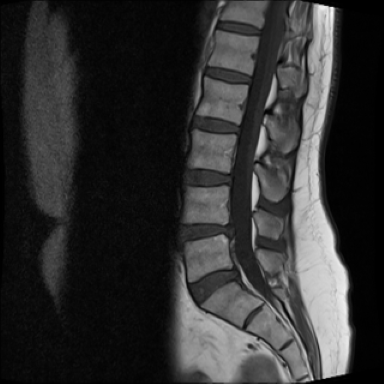Lumbar Disc Bulge (LDB): (182, 258, 249, 312), (175, 216, 244, 248)
Normal IVD: (185, 110, 245, 140), (198, 59, 256, 90), (175, 164, 237, 190), (214, 20, 264, 37)
Spinal Stenosis (SS): (224, 257, 243, 289), (217, 217, 238, 245)
